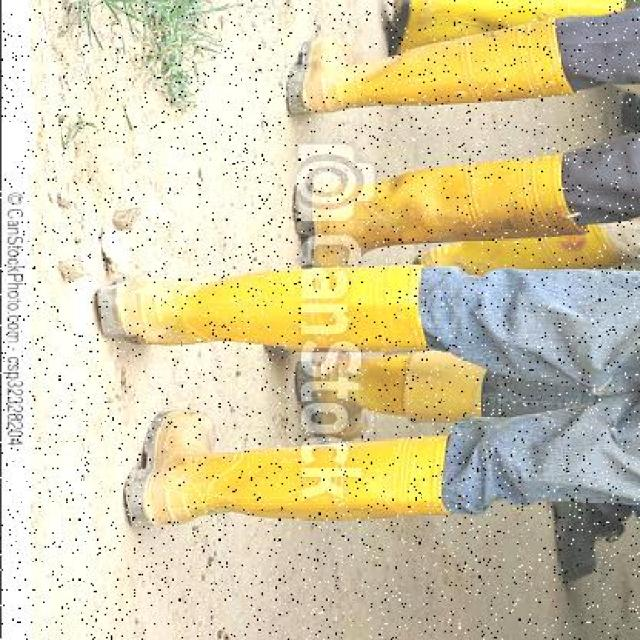shoes: (123, 415, 445, 536), (95, 259, 431, 359), (292, 160, 580, 266), (278, 19, 570, 119), (292, 358, 492, 428)
